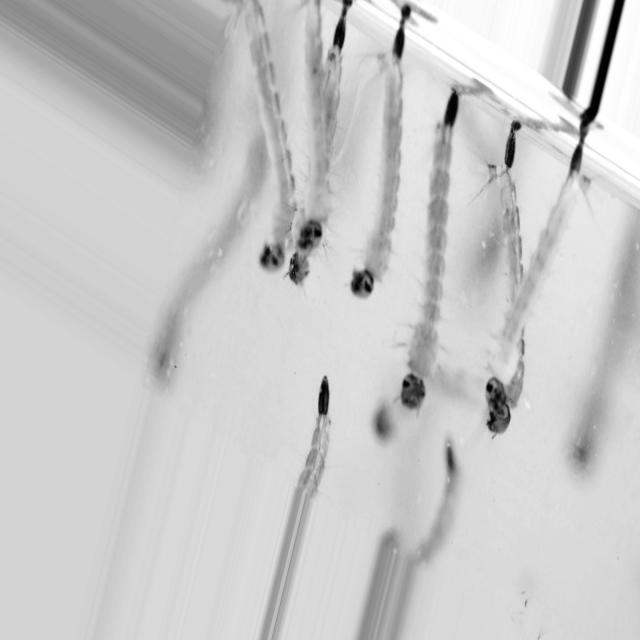larvas: (479, 155, 592, 419), (347, 19, 430, 310), (397, 92, 468, 412), (156, 173, 257, 381), (236, 0, 296, 284), (573, 221, 630, 460), (300, 2, 331, 256), (490, 121, 528, 310), (300, 376, 335, 489), (325, 0, 357, 123), (423, 441, 460, 544)
